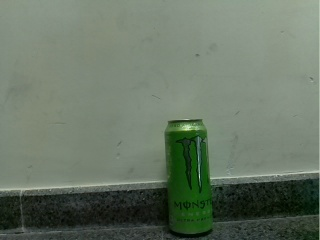botella plastico: (164, 118, 212, 234)
